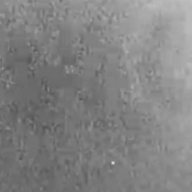Target: (110, 160, 115, 166)
